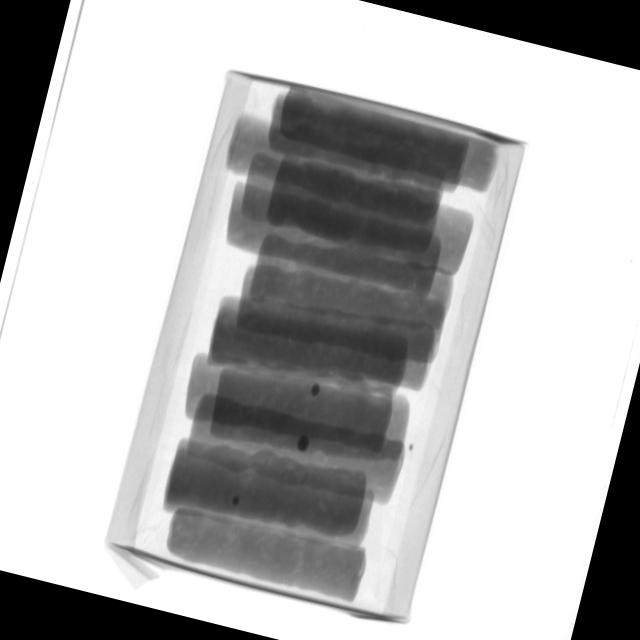ym: (295, 435, 312, 455), (310, 384, 321, 397), (232, 497, 241, 508), (407, 443, 415, 451)
